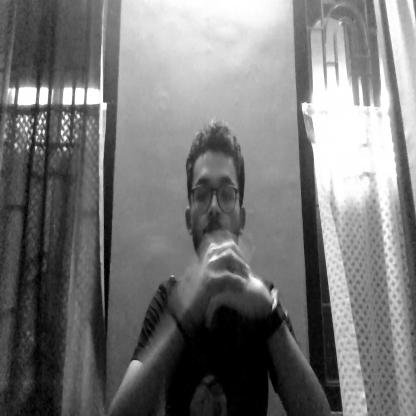Normal: (186, 119, 249, 286)
